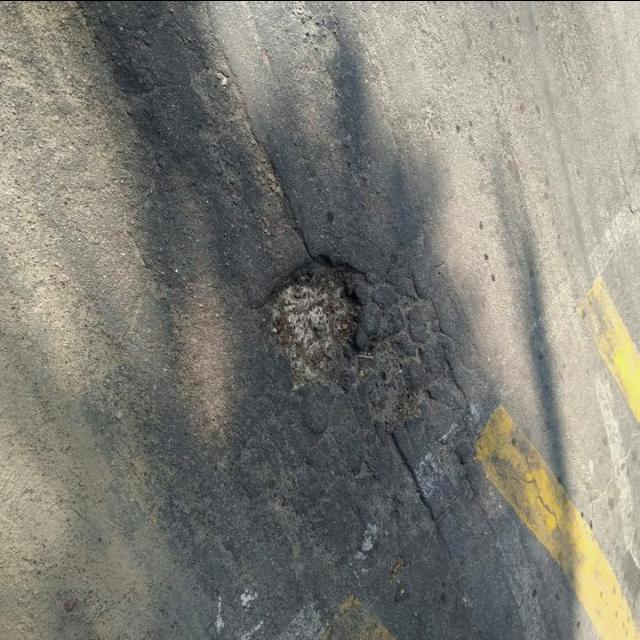pothole: (232, 222, 469, 488)
